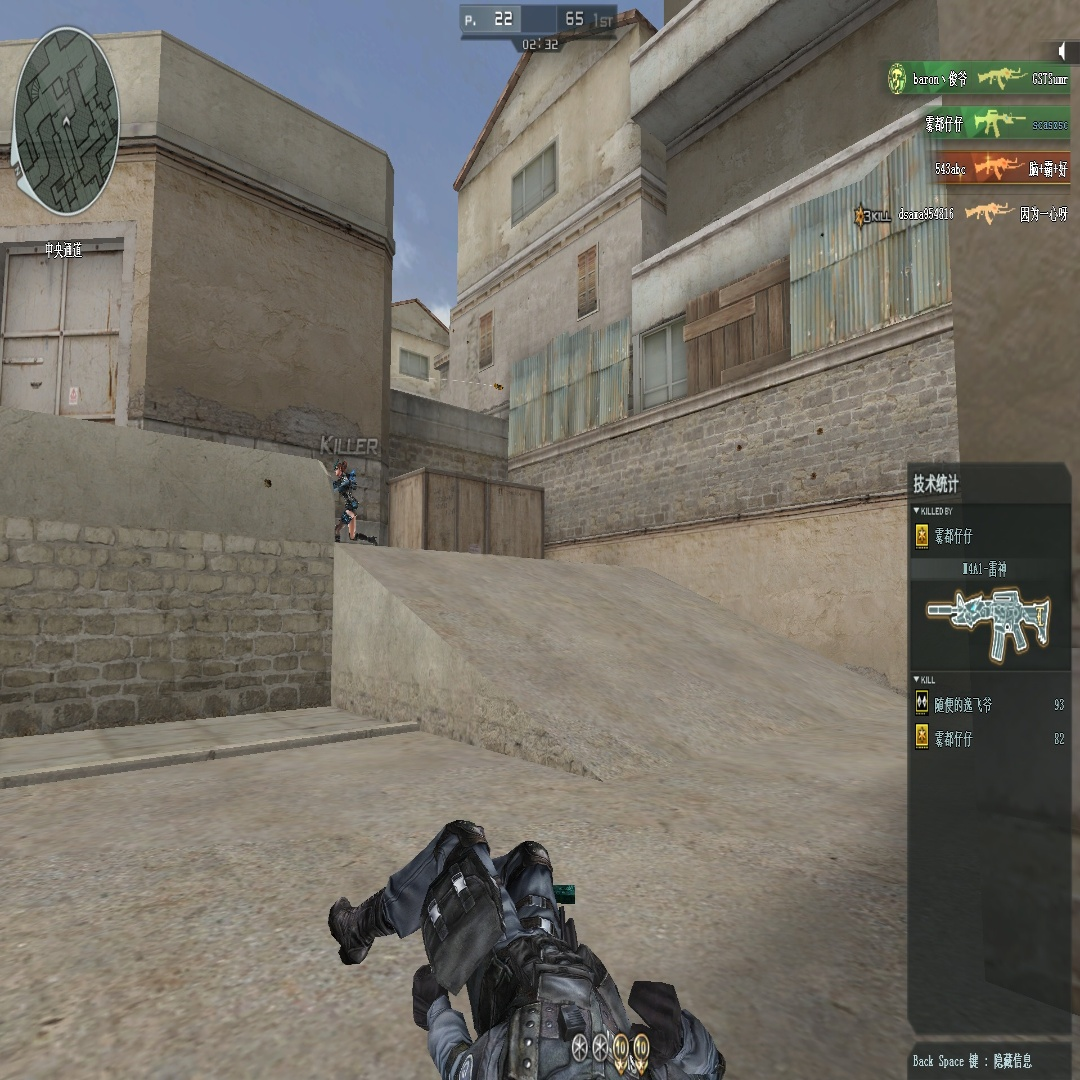p: (330, 459, 359, 538)
